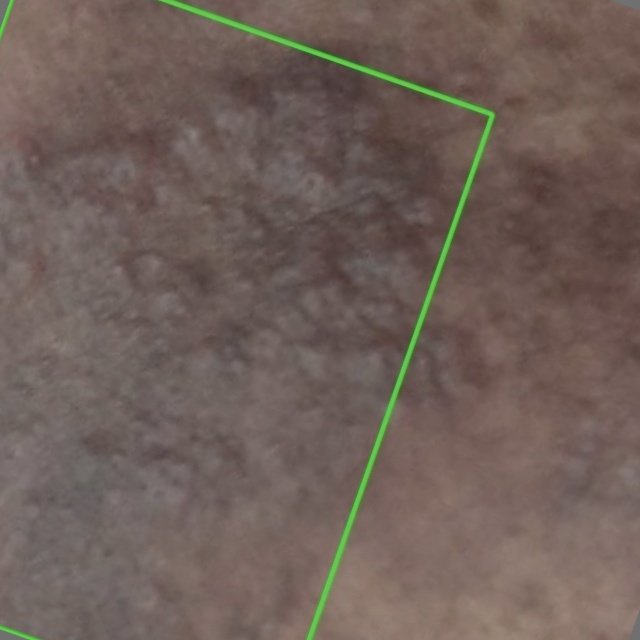Tinea Corporis: (0, 0, 492, 639)
